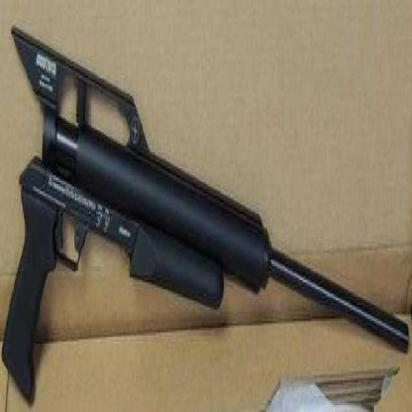Gun: (7, 25, 412, 402)
